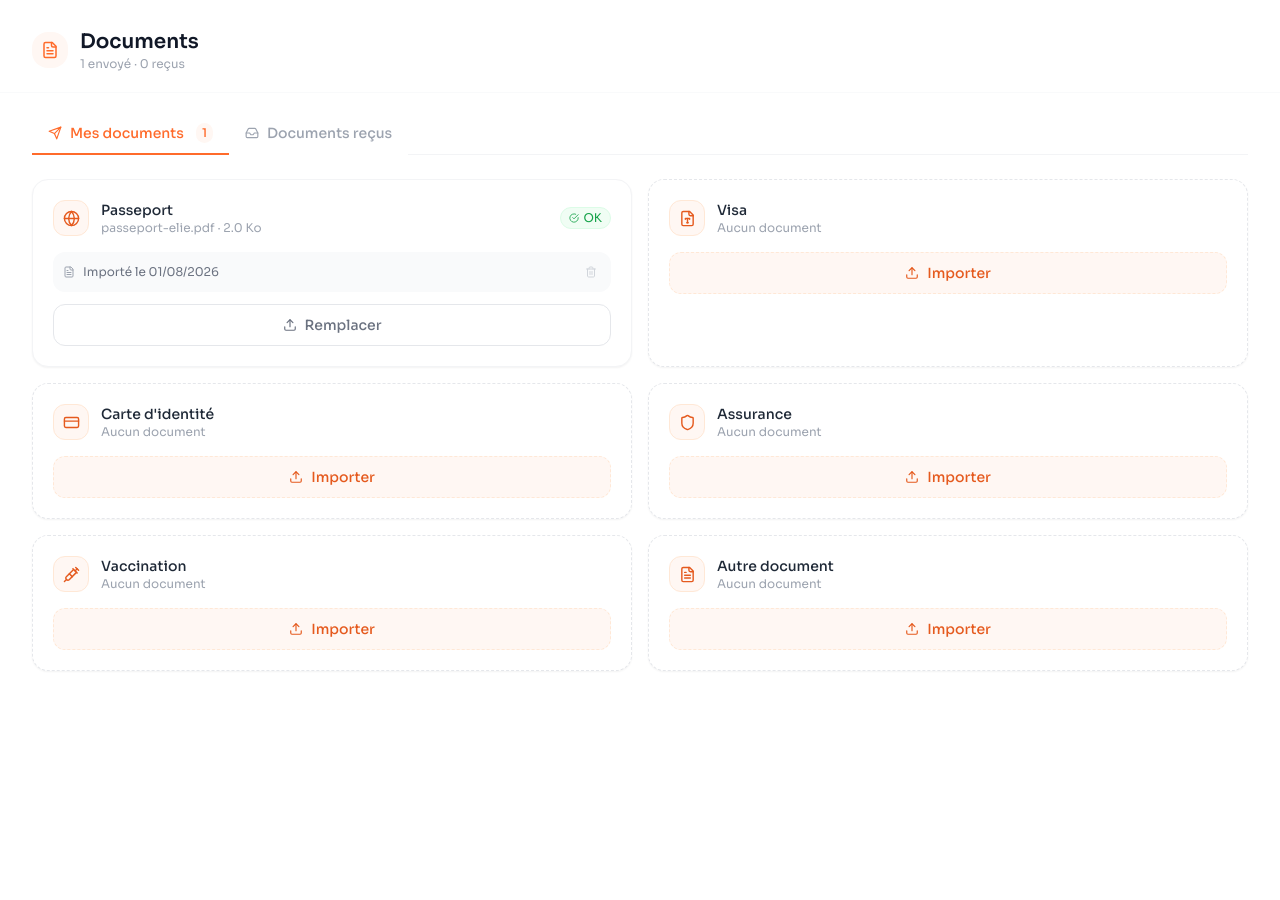
it: DocumentsPage › supprime un document après confirmation
This screenshot has width=1280, height=900.
Click the 3rd button.
click(591, 272)  # box [581,262,601,282]
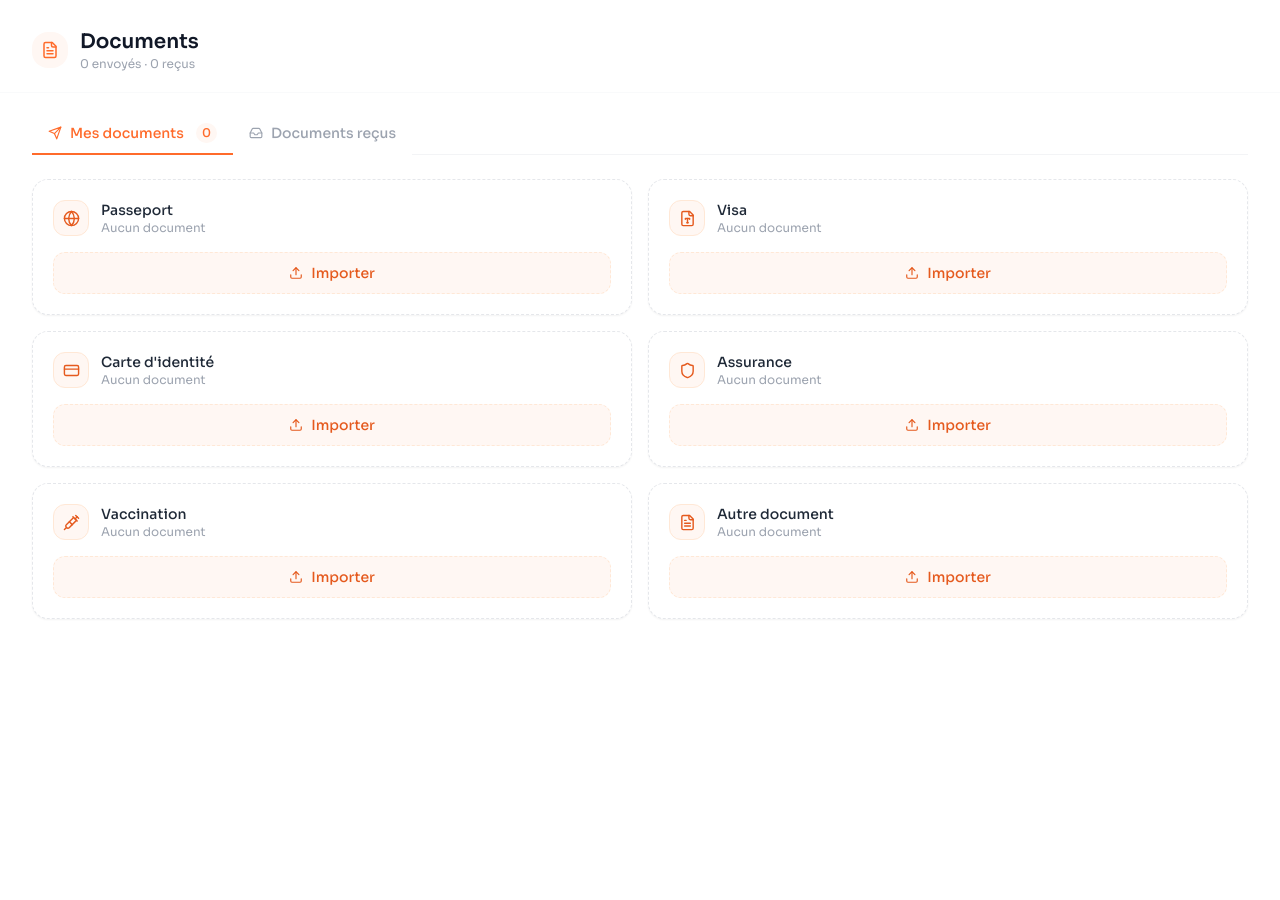
Check: the text "passeport-elie.pdf" is gone
